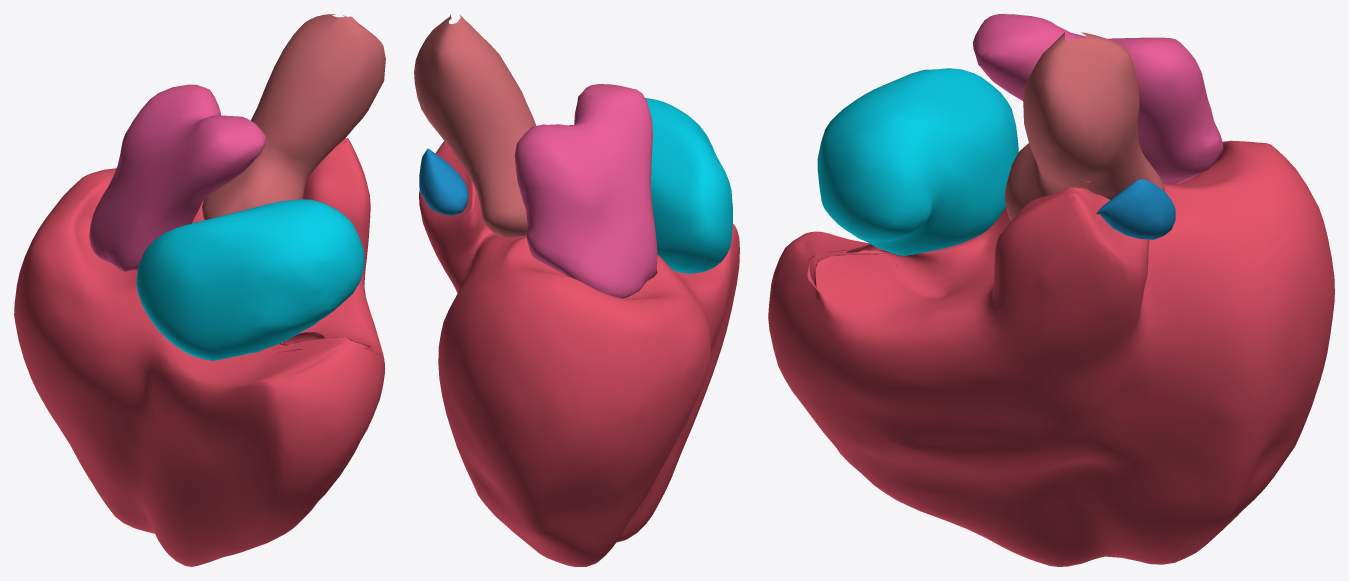
The model's file is frame_43.glb.
3 renders of one model, left to right at view 1: azimuth 30°, elevation 25°; view 2: azimuth 150°, elevation 25°; view 3: azimuth 270°, elevation 25°, orthographic. The views are drawn at different scales.
Visible parts, largest first — view 1: Renderer Node; view 2: Renderer Node; view 3: Renderer Node.
Boxes of the visible parts, x1,y1,x2,y2 form: Renderer Node: [14, 14, 385, 566]; Renderer Node: [414, 14, 739, 566]; Renderer Node: [768, 14, 1334, 566].
Bounding box in the file's own units: 105 × 162 × 132.
